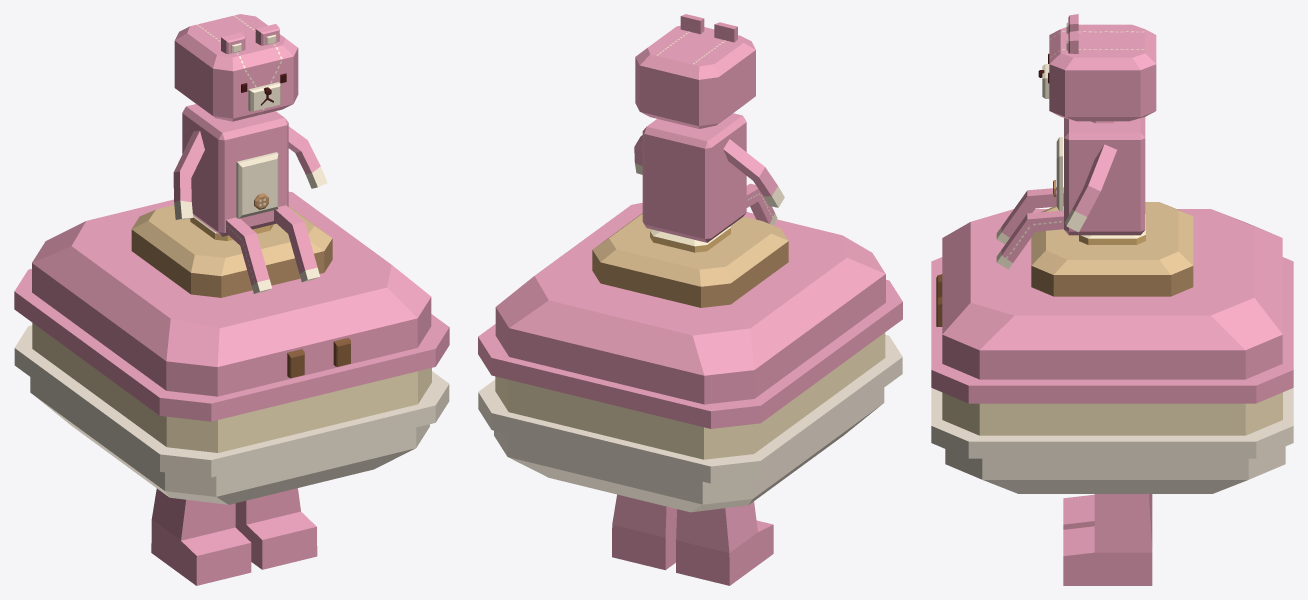
Rendered from st1_6 block.fbx.
3 renders of one model, left to right at view 1: azimuth 30°, elevation 25°; view 2: azimuth 150°, elevation 25°; view 3: azimuth 270°, elevation 25°, orthographic. The views are drawn at different scales.
Parts seen in each view (by area): view 1: st1_6_block_head, st1_6_block_down, st1_6_block_middle, st1_6_block_pink_head, st1_6_block_pink_body, st1_6_block_head_ad1, st1_6_block_L_leg, st1_6_block_R_leg, st1_6_block_L_pink_leg, st1_6_block_L_pink_arm, st1_6_block_R_pink_leg, st1_6_block_R_pink_arm; view 2: st1_6_block_head, st1_6_block_down, st1_6_block_head_ad1, st1_6_block_middle, st1_6_block_pink_body, st1_6_block_pink_head, st1_6_block_L_leg, st1_6_block_R_leg, st1_6_block_L_pink_arm, st1_6_block_L_pink_leg; view 3: st1_6_block_head, st1_6_block_down, st1_6_block_head_ad1, st1_6_block_middle, st1_6_block_pink_head, st1_6_block_pink_body, st1_6_block_R_leg, st1_6_block_R_pink_arm, st1_6_block_R_pink_leg, st1_6_block_L_pink_leg, st1_6_block_L_leg.
Boxes of the visible parts, left/top/right/bottom form: st1_6_block_head: left=14, top=191, right=449, bottom=421; st1_6_block_down: left=14, top=325, right=449, bottom=504; st1_6_block_middle: left=32, top=323, right=431, bottom=452; st1_6_block_pink_head: left=174, top=14, right=298, bottom=121; st1_6_block_pink_body: left=182, top=104, right=288, bottom=236; st1_6_block_head_ad1: left=131, top=205, right=332, bottom=297; st1_6_block_L_leg: left=151, top=488, right=251, bottom=585; st1_6_block_R_leg: left=235, top=488, right=317, bottom=569; st1_6_block_L_pink_leg: left=226, top=217, right=272, bottom=293; st1_6_block_L_pink_arm: left=173, top=130, right=204, bottom=219; st1_6_block_R_pink_leg: left=274, top=205, right=319, bottom=282; st1_6_block_R_pink_arm: left=288, top=126, right=327, bottom=188; st1_6_block_head: left=478, top=202, right=902, bottom=428; st1_6_block_down: left=478, top=335, right=902, bottom=512; st1_6_block_head_ad1: left=592, top=213, right=788, bottom=307; st1_6_block_middle: left=495, top=332, right=885, bottom=459; st1_6_block_pink_body: left=642, top=113, right=746, bottom=242; st1_6_block_pink_head: left=635, top=14, right=755, bottom=128; st1_6_block_L_leg: left=676, top=501, right=773, bottom=585; st1_6_block_R_leg: left=612, top=494, right=676, bottom=570; st1_6_block_L_pink_arm: left=723, top=139, right=784, bottom=207; st1_6_block_L_pink_leg: left=746, top=183, right=777, bottom=225; st1_6_block_head: left=931, top=209, right=1293, bottom=403; st1_6_block_down: left=931, top=388, right=1293, bottom=493; st1_6_block_head_ad1: left=1031, top=202, right=1193, bottom=296; st1_6_block_middle: left=942, top=392, right=1282, bottom=435; st1_6_block_pink_head: left=1038, top=14, right=1156, bottom=121; st1_6_block_pink_body: left=1053, top=117, right=1145, bottom=235; st1_6_block_R_leg: left=1063, top=494, right=1152, bottom=585; st1_6_block_R_pink_arm: left=1065, top=144, right=1116, bottom=232; st1_6_block_R_pink_leg: left=996, top=210, right=1063, bottom=269; st1_6_block_L_pink_leg: left=996, top=187, right=1063, bottom=244; st1_6_block_L_leg: left=1063, top=494, right=1152, bottom=529.
Size of the model in its own units: 445 by 785 by 487.
1 material, 1 textured.
